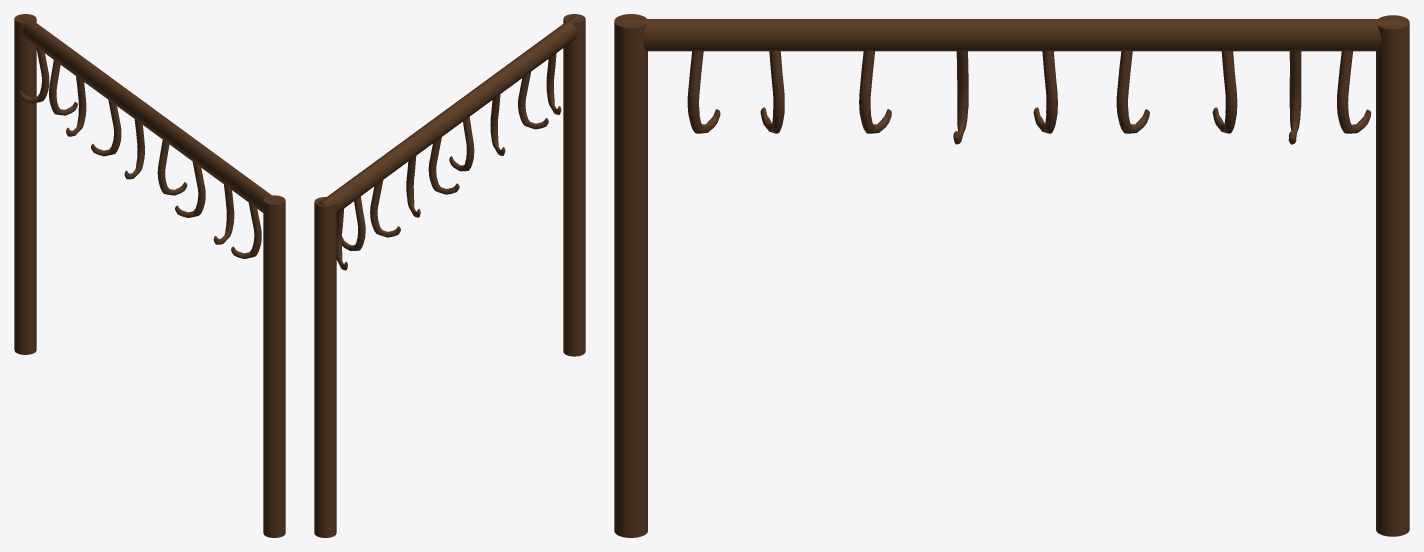
The model's file is stalenrek.fbx.
3 renders of one model, left to right at view 1: azimuth 30°, elevation 25°; view 2: azimuth 150°, elevation 25°; view 3: azimuth 270°, elevation 25°, orthographic. The views are drawn at different scales.
Visible parts, largest first — view 1: Cylinder, Cylinder.002, Cylinder.001, Torus.002, Torus.001, Torus.003, Torus.007, Torus.008, Torus.009, Torus.004, Torus.005, Torus.006; view 2: Cylinder.002, Cylinder, Cylinder.001, Torus.006, Torus.005, Torus.004, Torus.002, Torus.001, Torus.008, Torus.007, Torus.003, Torus.009; view 3: Cylinder.001, Cylinder, Cylinder.002, Torus.003, Torus.008, Torus.009, Torus.007, Torus.005, Torus.004, Torus.006, Torus.001, Torus.002.
Boxes of the visible parts, left/top/right/bottom form: Cylinder: left=263, top=195, right=285, bottom=537; Cylinder.002: left=14, top=14, right=36, bottom=354; Cylinder.001: left=18, top=14, right=279, bottom=212; Torus.002: left=157, top=140, right=187, bottom=195; Torus.001: left=49, top=60, right=77, bottom=115; Torus.003: left=91, top=100, right=121, bottom=156; Torus.007: left=175, top=162, right=205, bottom=217; Torus.008: left=231, top=203, right=261, bottom=258; Torus.009: left=19, top=47, right=49, bottom=103; Torus.004: left=213, top=184, right=234, bottom=244; Torus.005: left=66, top=76, right=86, bottom=136; Torus.006: left=124, top=119, right=144, bottom=179; Cylinder.002: left=314, top=197, right=336, bottom=537; Cylinder: left=563, top=14, right=585, bottom=356; Cylinder.001: left=318, top=15, right=579, bottom=213; Torus.006: left=428, top=137, right=459, bottom=194; Torus.005: left=370, top=180, right=400, bottom=237; Torus.004: left=518, top=72, right=548, bottom=129; Torus.002: left=449, top=117, right=474, bottom=171; Torus.001: left=342, top=196, right=365, bottom=250; Torus.008: left=546, top=53, right=561, bottom=114; Torus.007: left=490, top=94, right=505, bottom=155; Torus.003: left=406, top=156, right=420, bottom=217; Torus.009: left=336, top=209, right=347, bottom=270; Cylinder.001: left=623, top=19, right=1403, bottom=51; Cylinder: left=614, top=14, right=647, bottom=537; Cylinder.002: left=1376, top=15, right=1409, bottom=536; Torus.003: left=1116, top=51, right=1149, bottom=133; Torus.008: left=687, top=51, right=720, bottom=133; Torus.009: left=1337, top=51, right=1371, bottom=133; Torus.007: left=859, top=51, right=891, bottom=133; Torus.005: left=1212, top=51, right=1237, bottom=133; Torus.004: left=760, top=51, right=784, bottom=133; Torus.006: left=1033, top=51, right=1057, bottom=133; Torus.001: left=1288, top=50, right=1301, bottom=144; Torus.002: left=953, top=50, right=968, bottom=144.
Size of the model in its own units: 382 by 3340 by 4712.
